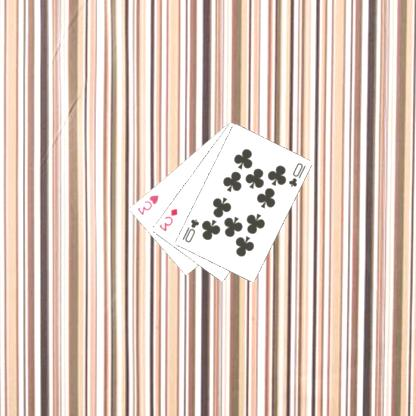10C: (287, 160, 309, 188), (181, 216, 202, 244)
3D: (158, 206, 181, 233)
3H: (136, 192, 161, 216)
